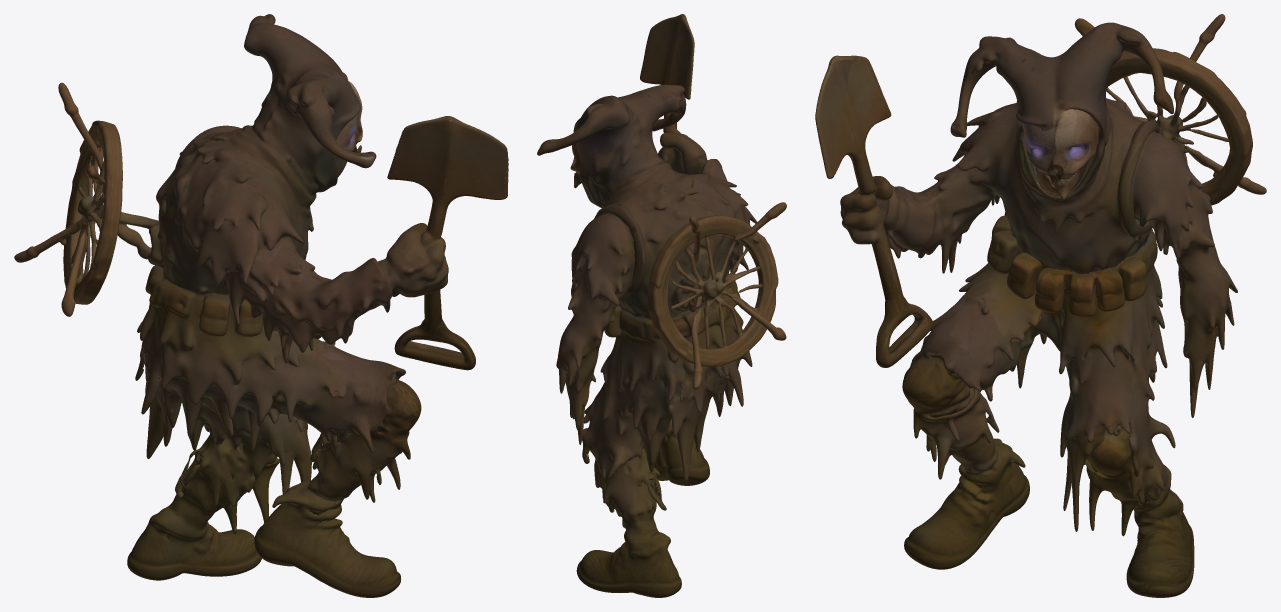
3 renders of one model, left to right at view 1: azimuth 30°, elevation 25°; view 2: azimuth 150°, elevation 25°; view 3: azimuth 270°, elevation 25°, orthographic. The views are drawn at different scales.
Visible parts, largest first — view 1: tripo_node_9d0a6ee0-5cc7-4d87-9013-406f8d2fad78; view 2: tripo_node_9d0a6ee0-5cc7-4d87-9013-406f8d2fad78; view 3: tripo_node_9d0a6ee0-5cc7-4d87-9013-406f8d2fad78.
Boxes of the visible parts, x1,y1,x2,y2 form: tripo_node_9d0a6ee0-5cc7-4d87-9013-406f8d2fad78: (14,14,508,597); tripo_node_9d0a6ee0-5cc7-4d87-9013-406f8d2fad78: (537,14,786,597); tripo_node_9d0a6ee0-5cc7-4d87-9013-406f8d2fad78: (815,14,1266,597).
Size of the model in its own units: 0.5782 by 1 by 0.712.
Materials: 1 (1 with a texture image).
